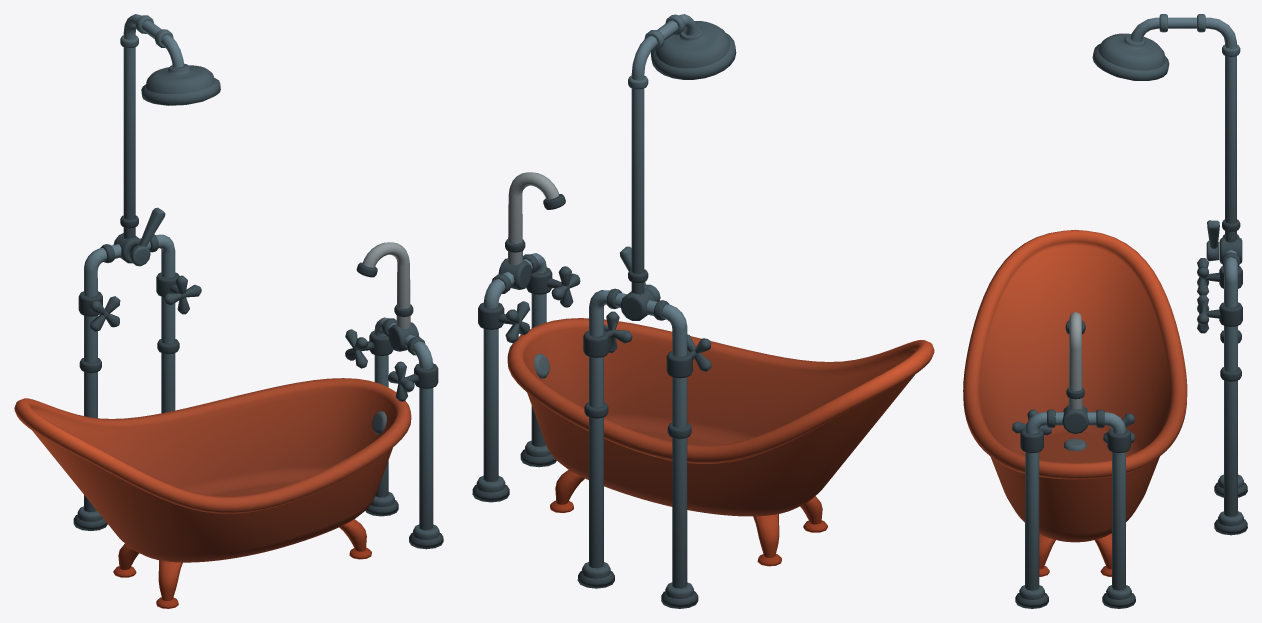
File: Bath_06.glb
The picture shows the model from 3 angles, left to right: view 1: azimuth 30°, elevation 25°; view 2: azimuth 150°, elevation 25°; view 3: azimuth 270°, elevation 25°; orthographic projection. The views are drawn at different scales.
Visible parts, largest first — view 1: Bath_06; view 2: Bath_06; view 3: Bath_06.
Boxes of the visible parts, <box> form: Bath_06: <box>14,14,443,608</box>; Bath_06: <box>472,14,934,608</box>; Bath_06: <box>963,14,1247,608</box>.
Size of the model in its own units: 1.57 by 1.95 by 1.02.
Materials: 1 (1 with a texture image).
